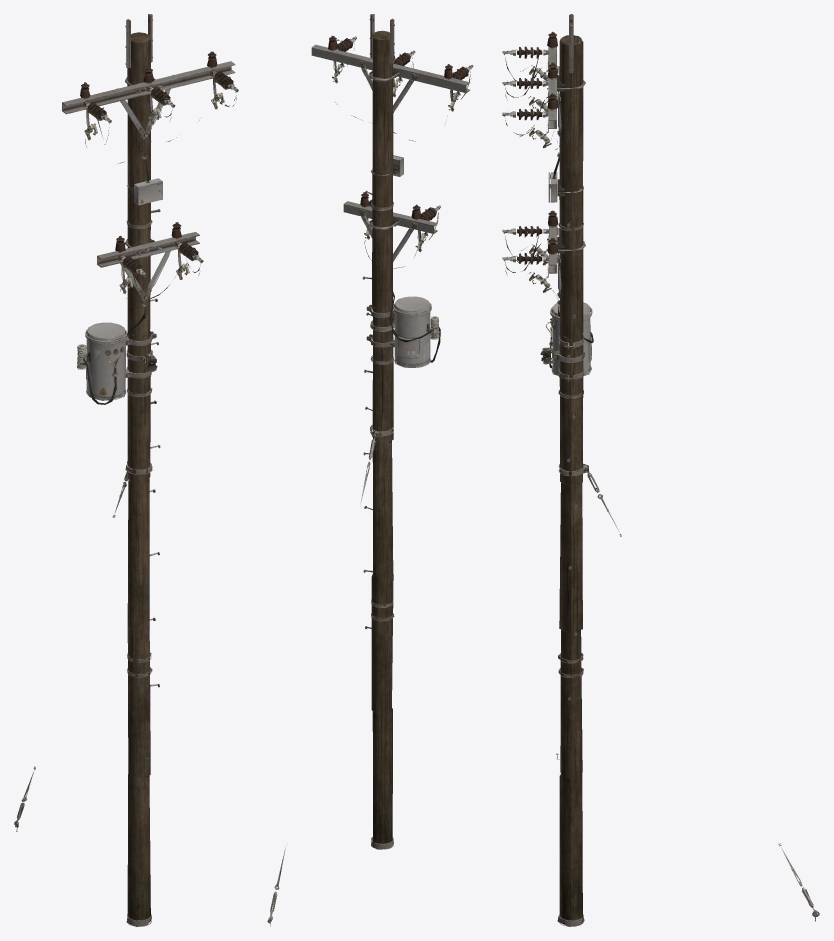
File: power_pole.glb
3 renders of one model, left to right at view 1: azimuth 30°, elevation 25°; view 2: azimuth 150°, elevation 25°; view 3: azimuth 270°, elevation 25°, orthographic. The views are drawn at different scales.
Visible parts, largest first — view 1: power_pole; view 2: power_pole; view 3: power_pole.
Part boxes in pixels (left/top/right/bottom): power_pole: left=14, top=14, right=238, bottom=926; power_pole: left=267, top=14, right=473, bottom=926; power_pole: left=502, top=14, right=819, bottom=926.
Bounding box in the file's own units: 1.2 × 6.13 × 1.96.
Materials: 2 (2 with a texture image).
